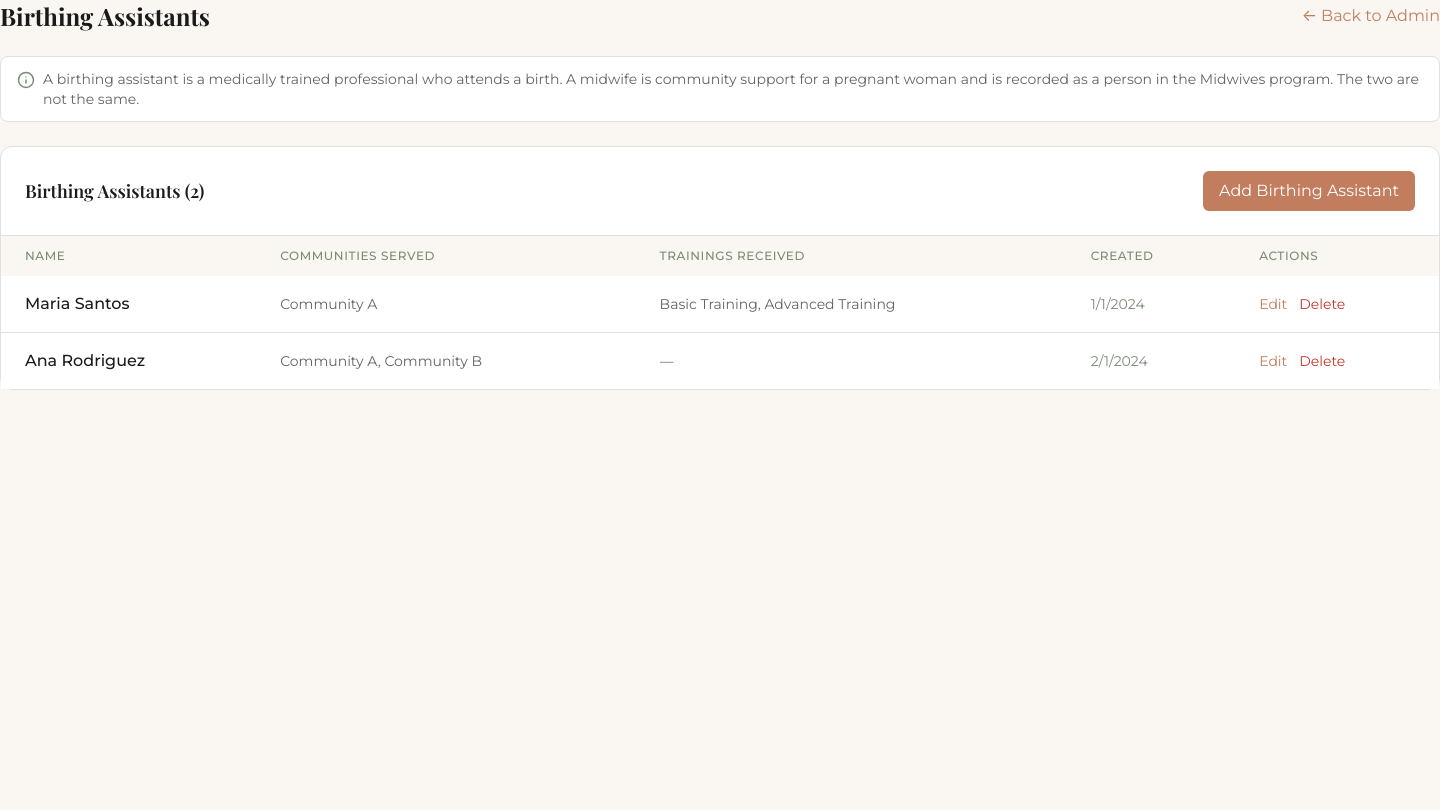
Test: AdminBirthingAssistantsPage › should show edit form when edit button clicked
Expected: the heading "Birthing Assistants (2)" is shown, [25,177,204,205]
What coordinates should you click on to do the following:
click the button "Edit" in the row of "Maria Santos"
I would click on:
 (1273, 304)
Its box is [1259,294,1287,314].
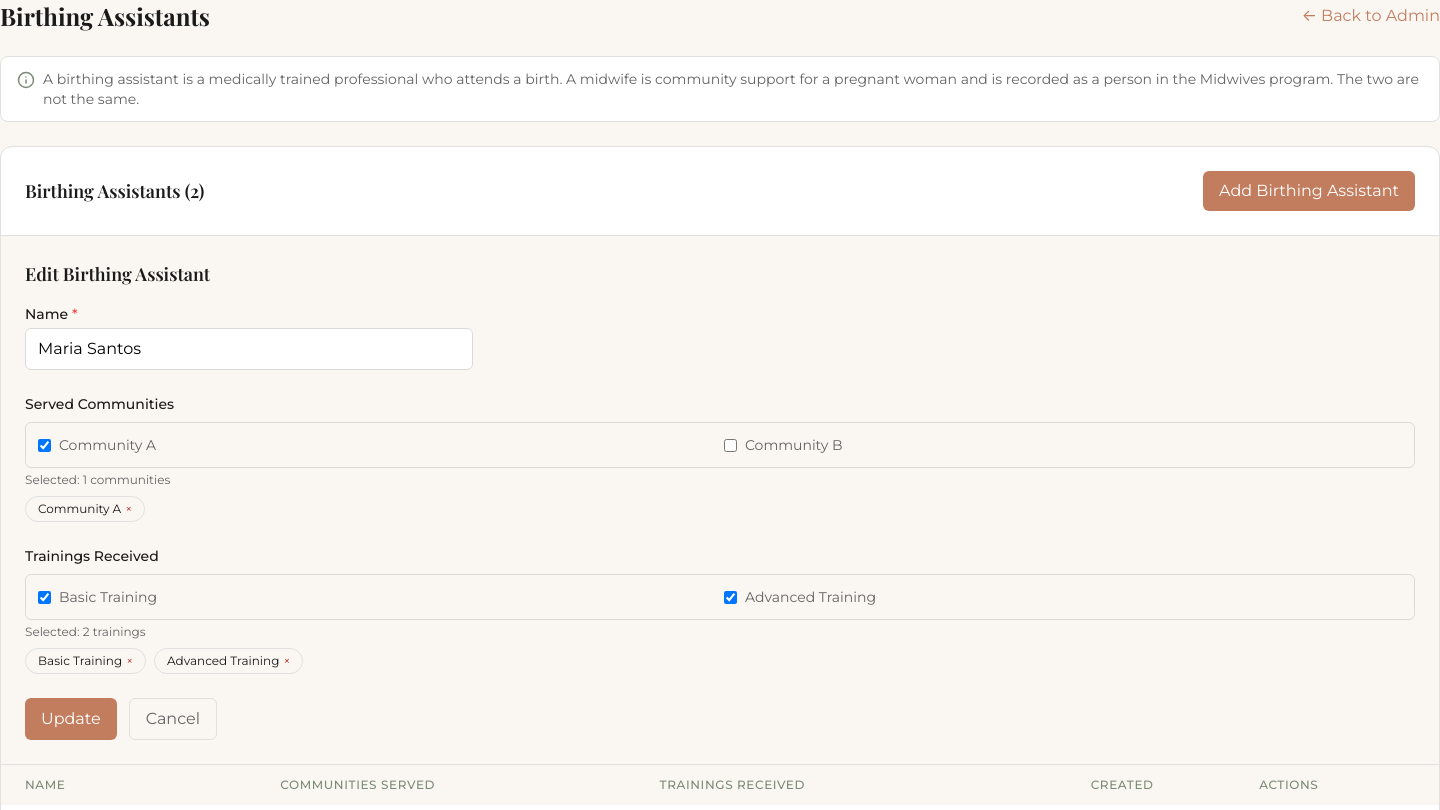
Expected: the heading "Edit Birthing Assistant" is shown, [25,262,210,286]
Expected: the field showing "Maria Santos" is shown, [25,328,473,370]
Expected: the checkbox labelled "Community A" is checked, [38,438,51,452]
